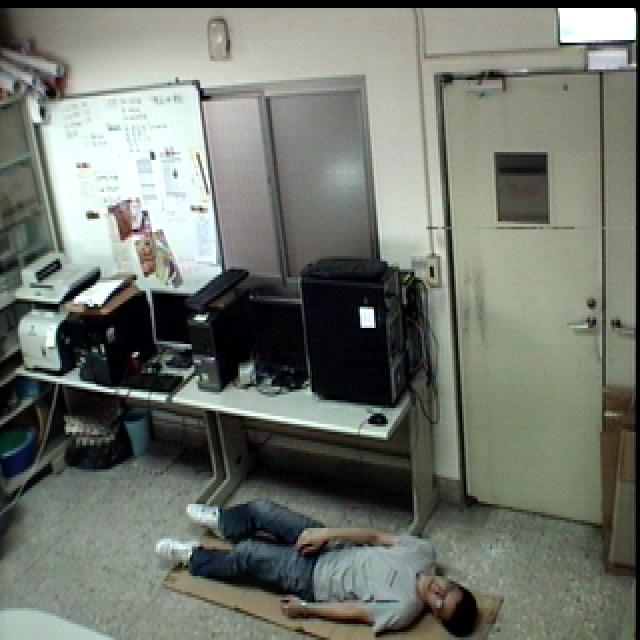lie: (149, 479, 490, 640)
